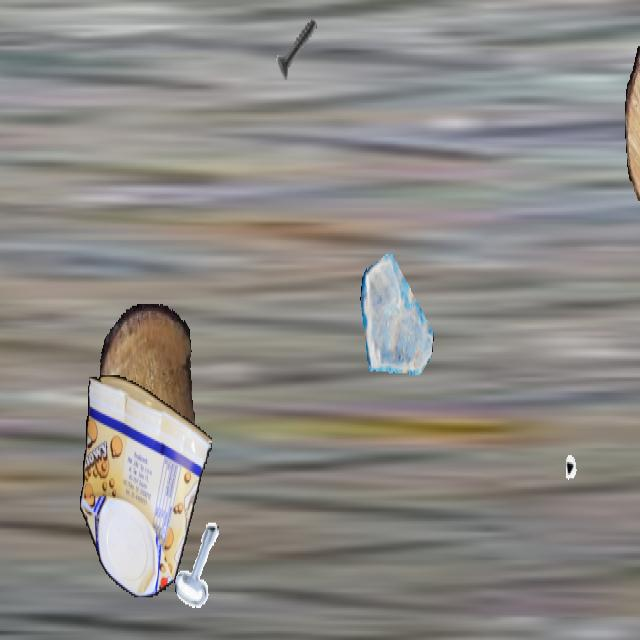glass: (360, 247, 434, 379)
metal: (566, 423, 628, 533), (271, 2, 323, 94), (174, 521, 226, 613)
plastic: (80, 375, 212, 596)
wood: (100, 304, 194, 489), (625, 2, 640, 229)
